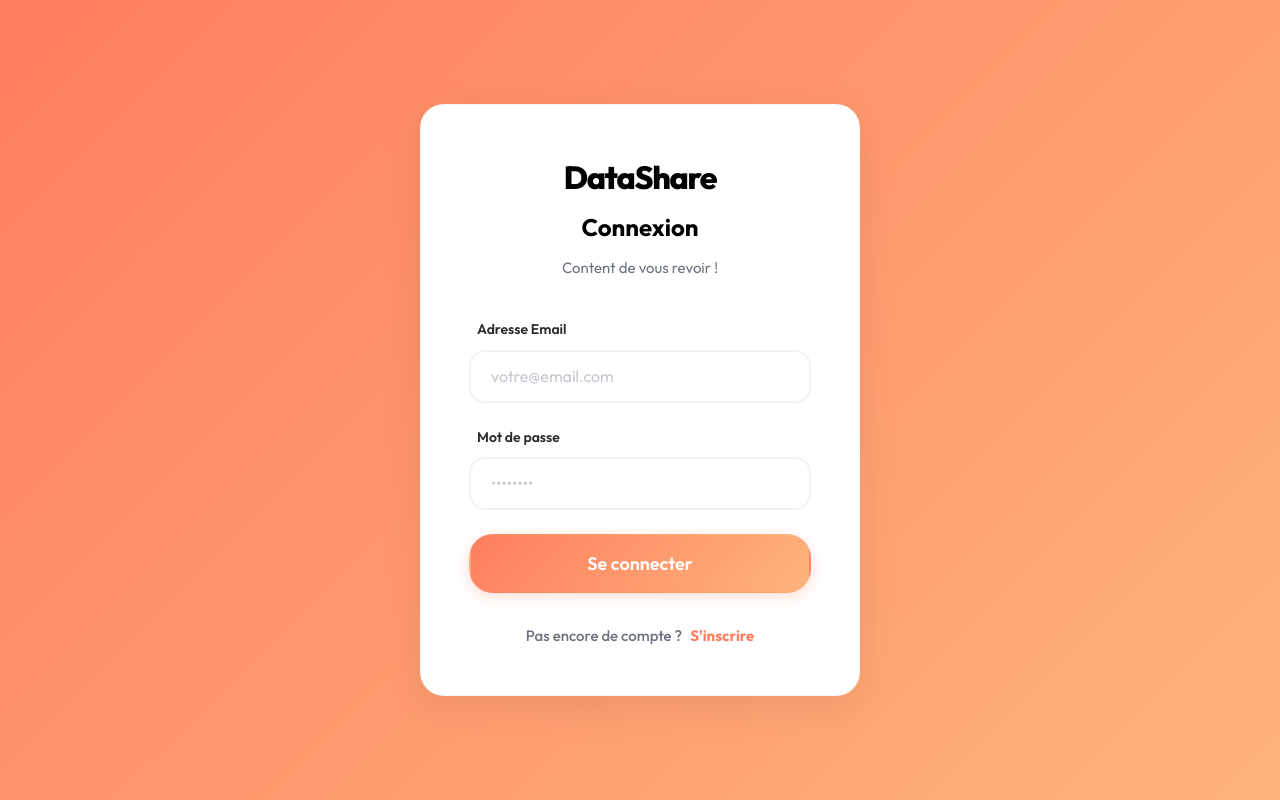
Test: Page de connexion › affiche une erreur si on soumet le formulaire vide
The width and height of the screenshot is (1280, 800).
Click the button "Se connecter" at (640, 563), box [469,534,811,593]
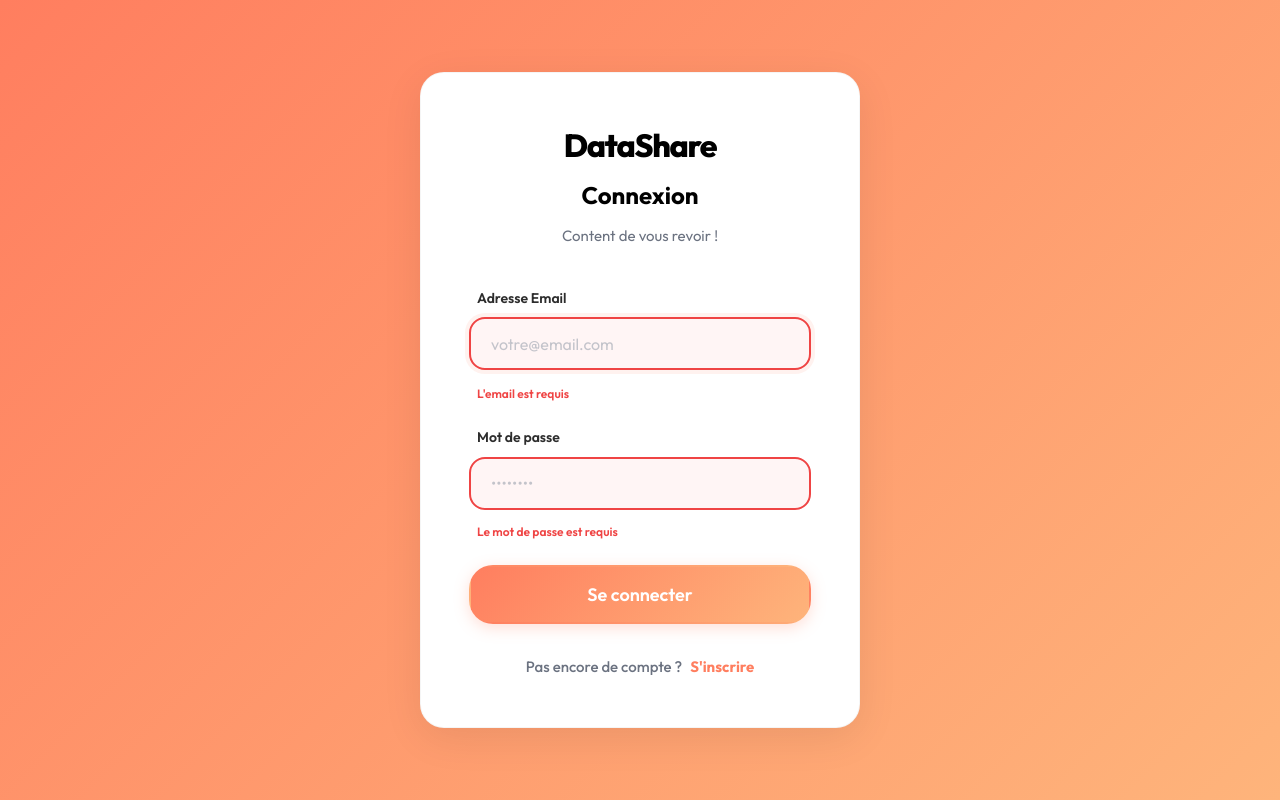
Expected: the text "L'email est requis" is shown, [477,386,569,400]
